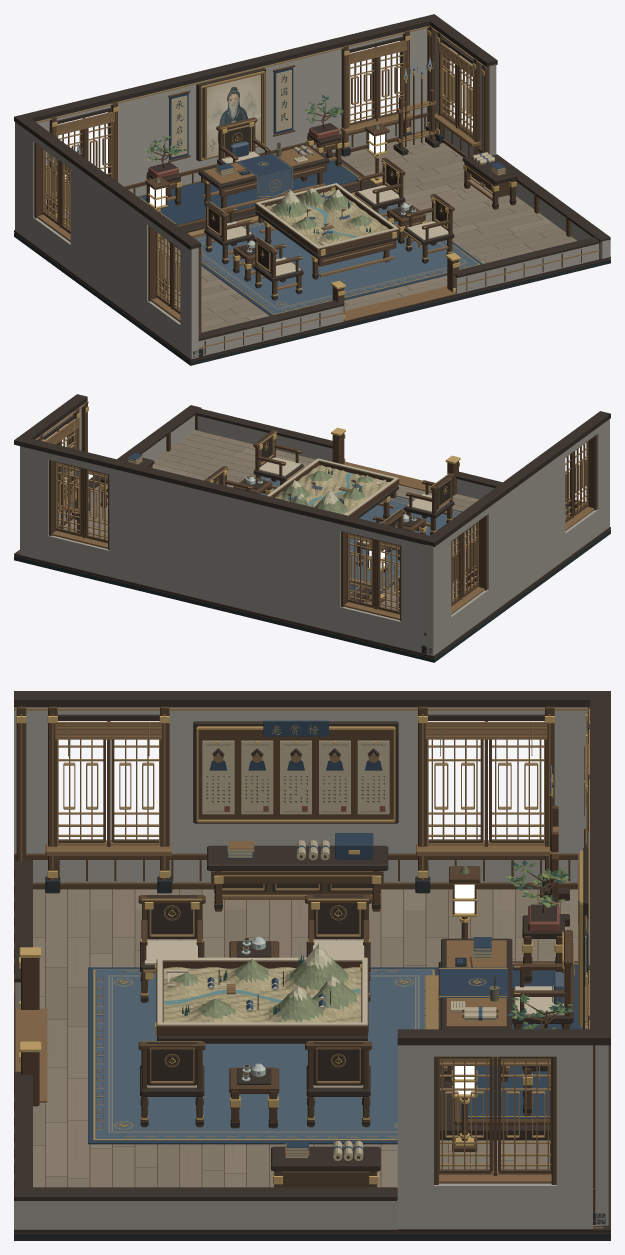
The model's file is council_hall.glb.
3 renders of one model, top to bottom at view 1: azimuth 30°, elevation 25°; view 2: azimuth 150°, elevation 25°; view 3: azimuth 270°, elevation 25°, orthographic. The views are drawn at different scales.
Visible parts, largest first — view 1: architecture.001_Council_matte, rug.001_Council_matte, sand_table_Council_matte, master_desk_Council_matte, window_back_east_Council_matte, window_east_back_Council_matte, ancestor_portrait_Council_Ancestor_InkPainting, couplets_Council_matte, window_back_west_Council_matte, window_west_back_Council_matte, elder_east_front_Council_matte, archive_Council_matte (+12 smaller); view 2: architecture.001_Council_matte, sand_table_Council_matte, window_back_east_Council_matte, window_back_west_Council_matte, window_west_back_Council_matte, rug.001_Council_matte, window_west_front_Council_matte, elder_west_front_Council_matte, elder_east_front_Council_matte, entry_Council_matte, window_east_back_Council_matte, elder_west_back_Council_matte (+3 smaller); view 3: architecture.001_Council_matte, rug.001_Council_matte, bounty_board_Council_matte, sand_table_Council_matte, window_west_back_Council_matte, bounty_console_Council_matte, window_west_front_Council_matte, window_east_back_Council_matte, master_desk_Council_matte, archive_Council_matte, elder_west_front_Council_matte, elder_east_front_Council_matte (+12 smaller).
Part boxes in pixels (x1,y1,x2,y2): architecture.001_Council_matte: (14,14,610,365); rug.001_Council_matte: (168,204,482,315); sand_table_Council_matte: (255,183,399,279); master_desk_Council_matte: (198,142,329,210); window_back_east_Council_matte: (340,36,412,134); window_east_back_Council_matte: (434,39,480,147); ancestor_portrait_Council_Ancestor_InkPainting: (206,74,260,157); couplets_Council_matte: (168,63,295,162); window_back_west_Council_matte: (52,107,114,204); window_west_back_Council_matte: (37,148,70,241); elder_east_front_Council_matte: (403,193,454,263); archive_Council_matte: (462,152,517,209); architecture.001_Council_matte: (14,394,610,662); sand_table_Council_matte: (267,458,399,518); window_back_east_Council_matte: (52,461,107,548); window_back_west_Council_matte: (344,532,399,620); window_west_back_Council_matte: (451,521,484,614); rug.001_Council_matte: (261,476,475,593); window_west_front_Council_matte: (565,440,594,530); elder_west_front_Council_matte: (403,473,454,534); elder_east_front_Council_matte: (253,430,304,488); entry_Council_matte: (332,433,458,495); window_east_back_Council_matte: (43,415,78,511); elder_west_back_Council_matte: (356,509,405,572); architecture.001_Council_matte: (14,691,610,1240); rug.001_Council_matte: (88,967,438,1144); bounty_board_Council_matte: (193,720,398,823); sand_table_Council_matte: (156,943,368,1043); window_west_back_Council_matte: (416,714,549,856); bounty_console_Council_matte: (207,833,388,911); window_west_front_Council_matte: (45,714,171,856); window_east_back_Council_matte: (439,1056,551,1183); master_desk_Council_matte: (438,937,512,1081); archive_Council_matte: (271,1140,380,1187); elder_west_front_Council_matte: (138,895,205,1002); elder_east_front_Council_matte: (138,1041,205,1127).
Bounding box in the file's own units: 11 × 3 × 8.
Materials: 5 (1 with a texture image).
